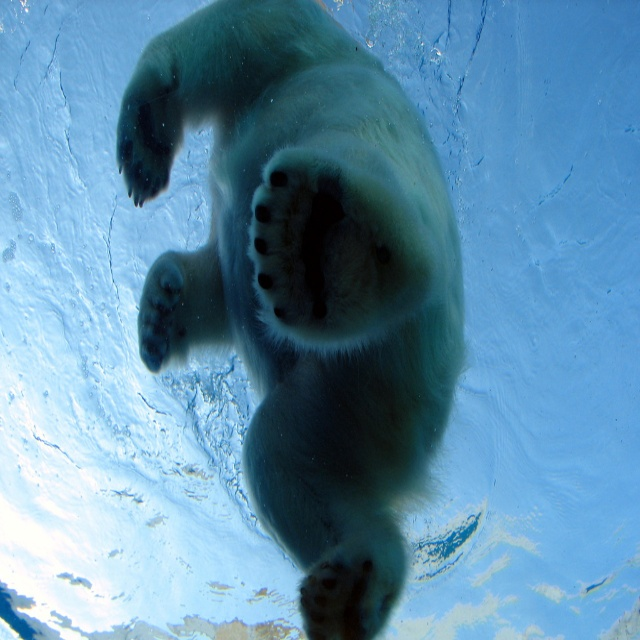Polar bear: (113, 0, 468, 639)
